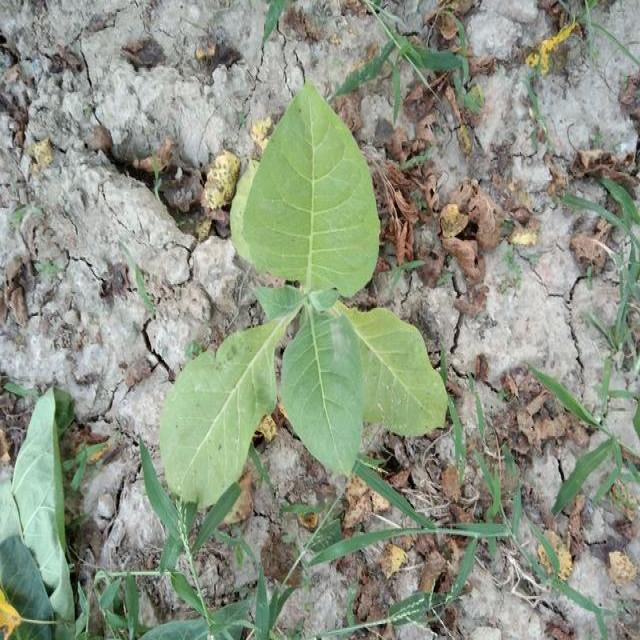crop: (154, 79, 456, 509)
